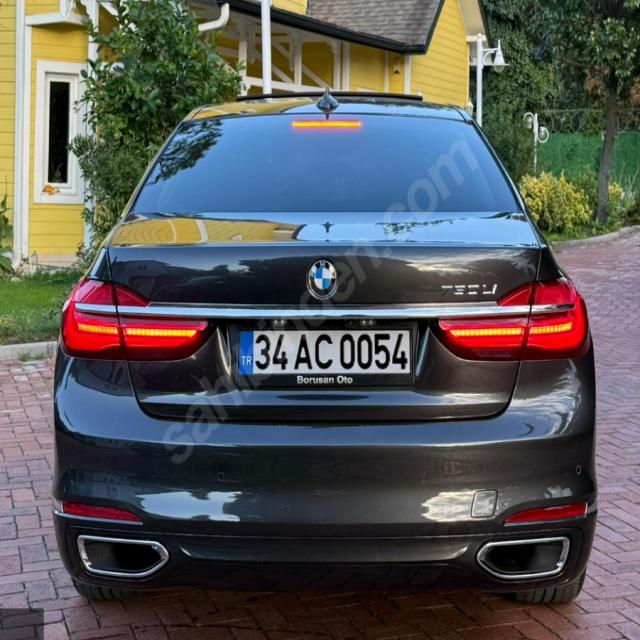bmw: (305, 257, 341, 303)
